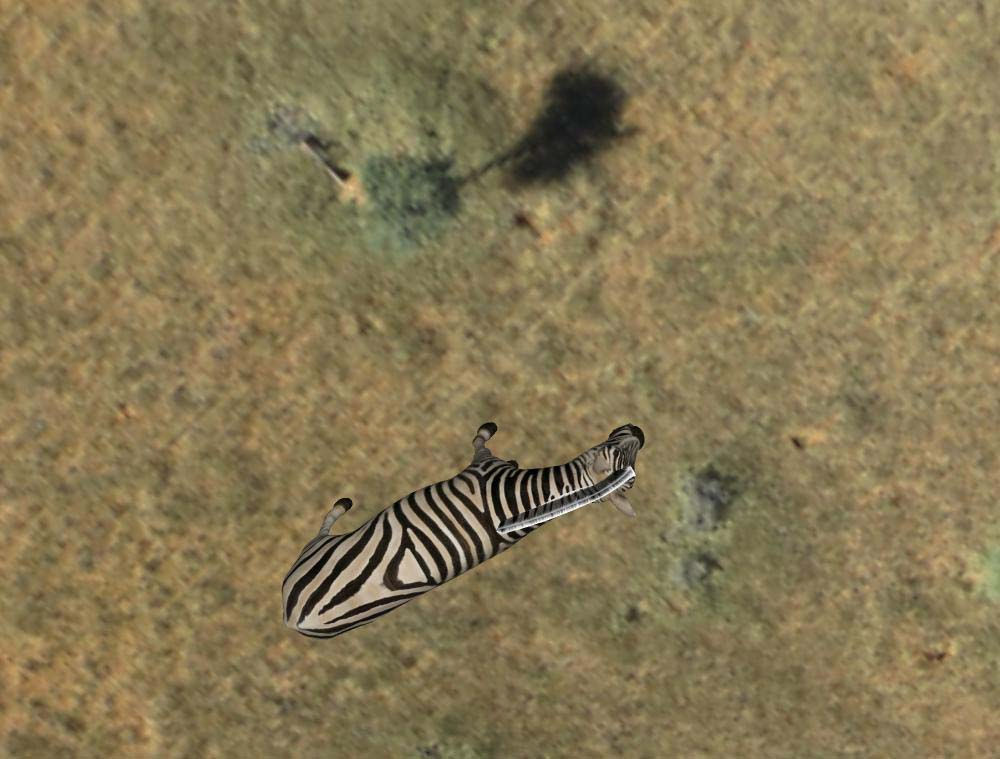zebra: (277, 397, 653, 643)
